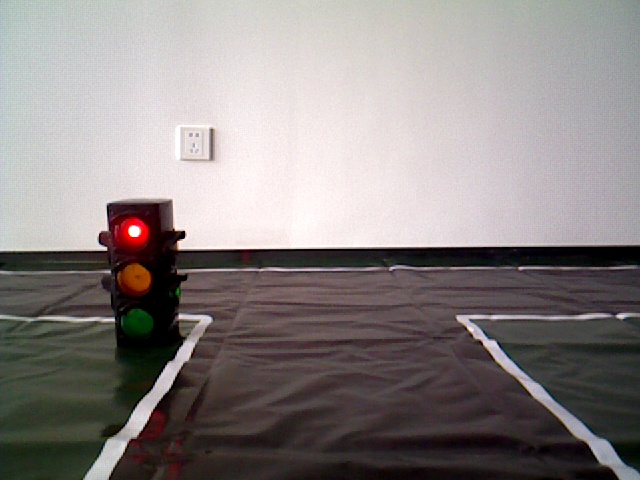red: (108, 204, 172, 348)
